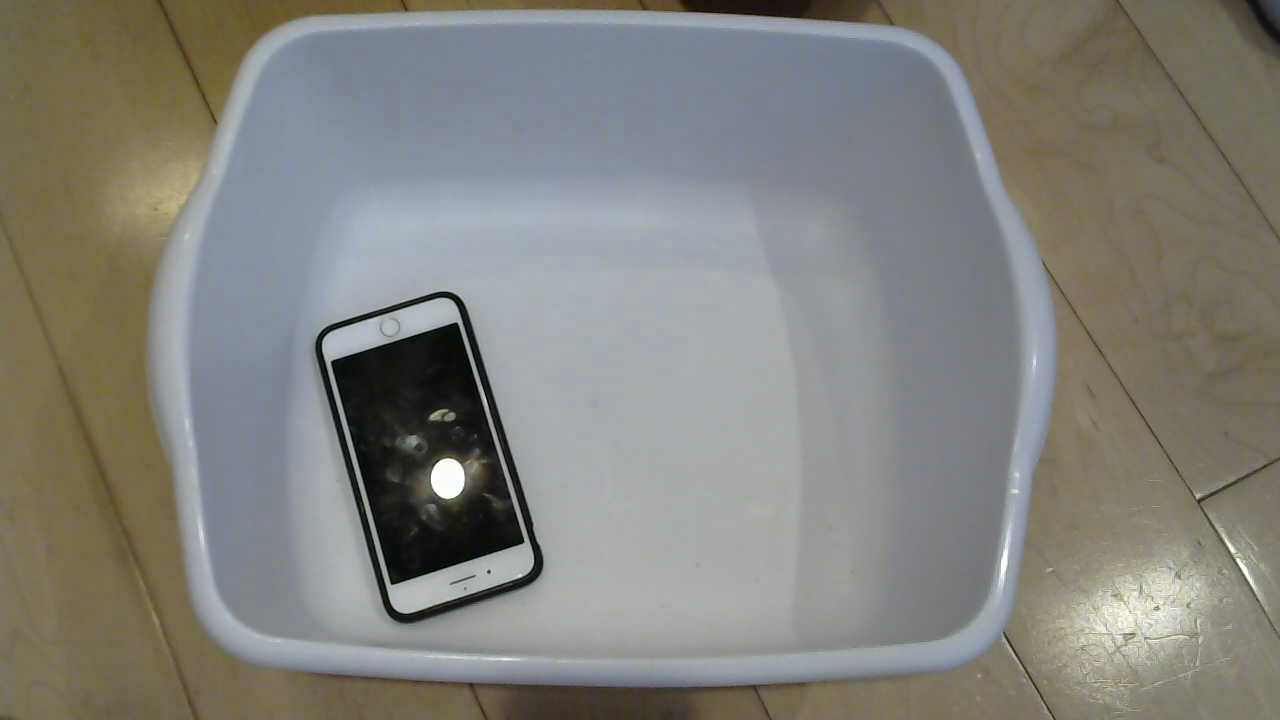phone: (297, 307, 576, 628)
